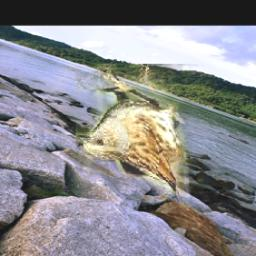Sparrow: (75, 65, 205, 239)
